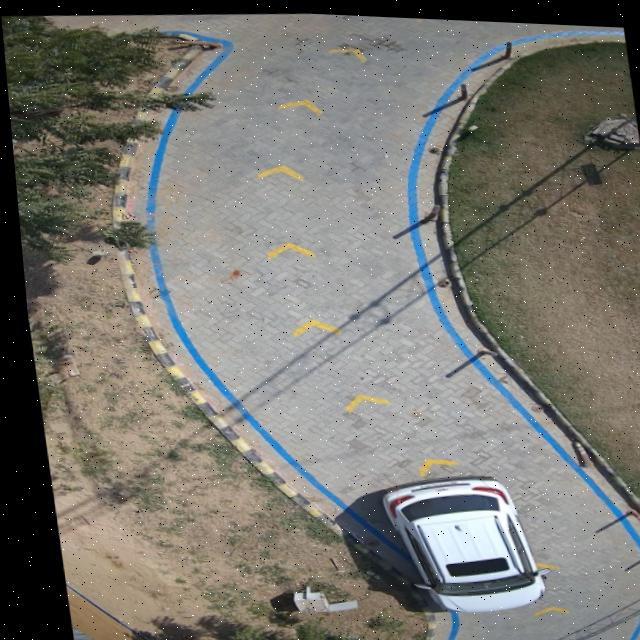car: (371, 472, 540, 609)
